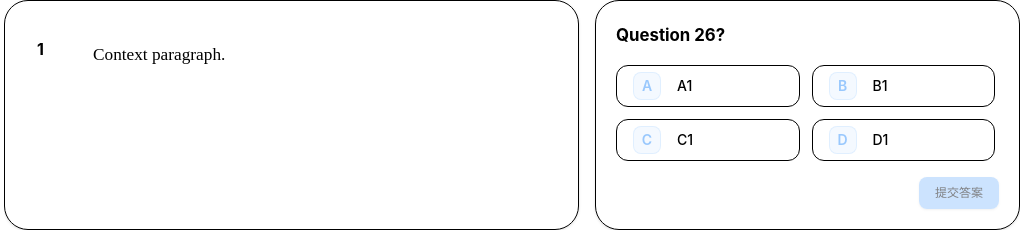
Test: ChoiceQuestionFocusTemplate › loads the next question and resets selection/result state
The width and height of the screenshot is (1024, 247).
Click the button named "AA1" at (708, 86), box top-left (616, 65), bottom-right (800, 107)
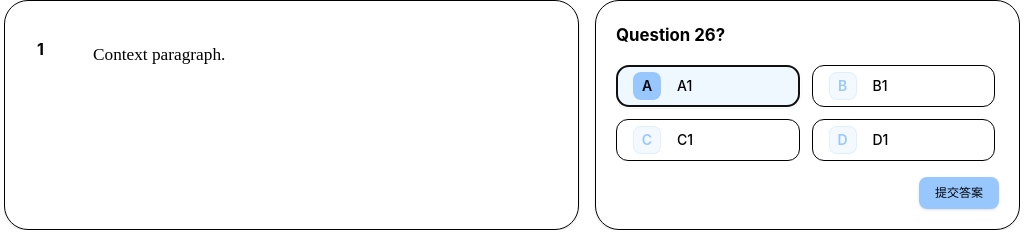
Click the button "提交答案" at (959, 193), box top-left (919, 177), bottom-right (999, 209)
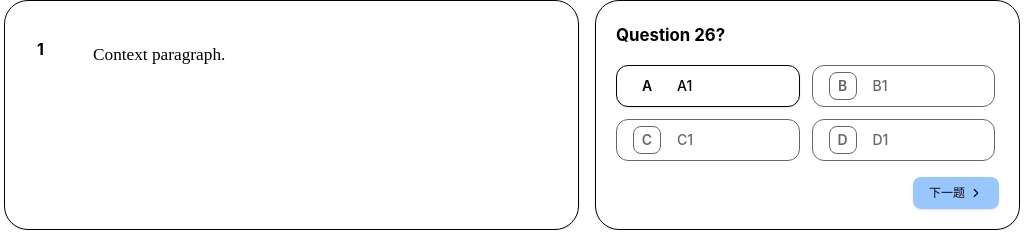
Now the button "下一题" is shown
Click the button "下一题" at (956, 193), box top-left (913, 177), bottom-right (999, 209)
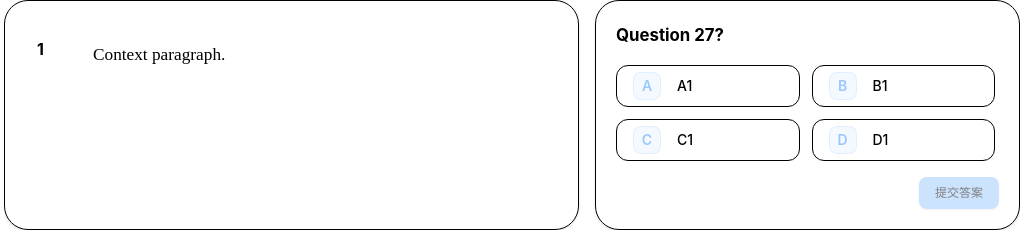
Expected: the text "Question 27?" is shown, top-left (616, 25), bottom-right (724, 45)
Now the button "提交答案" is disabled, box top-left (919, 177), bottom-right (999, 209)
